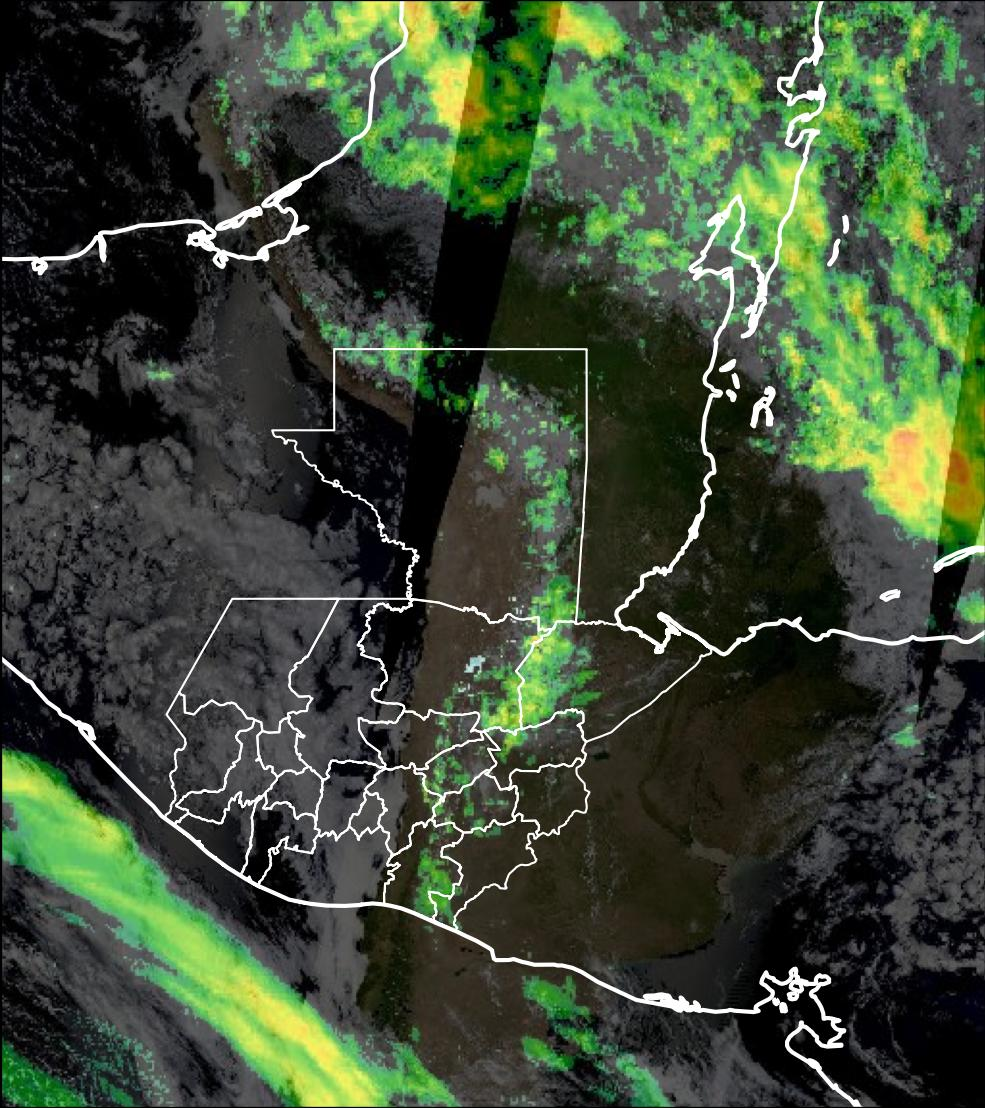precipitacion: (880, 413, 984, 524), (425, 65, 493, 134)
